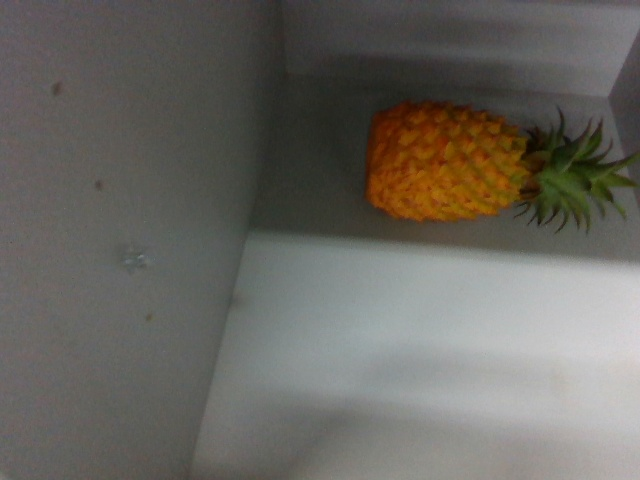pineapple: (362, 96, 635, 229)
